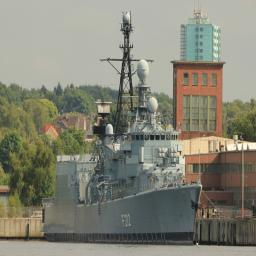Fragata: (41, 9, 205, 245)
